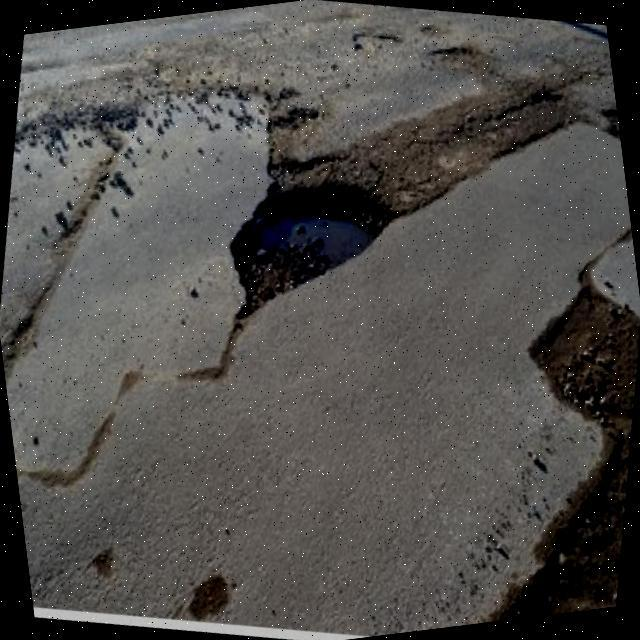Pothole: (222, 188, 394, 367)
